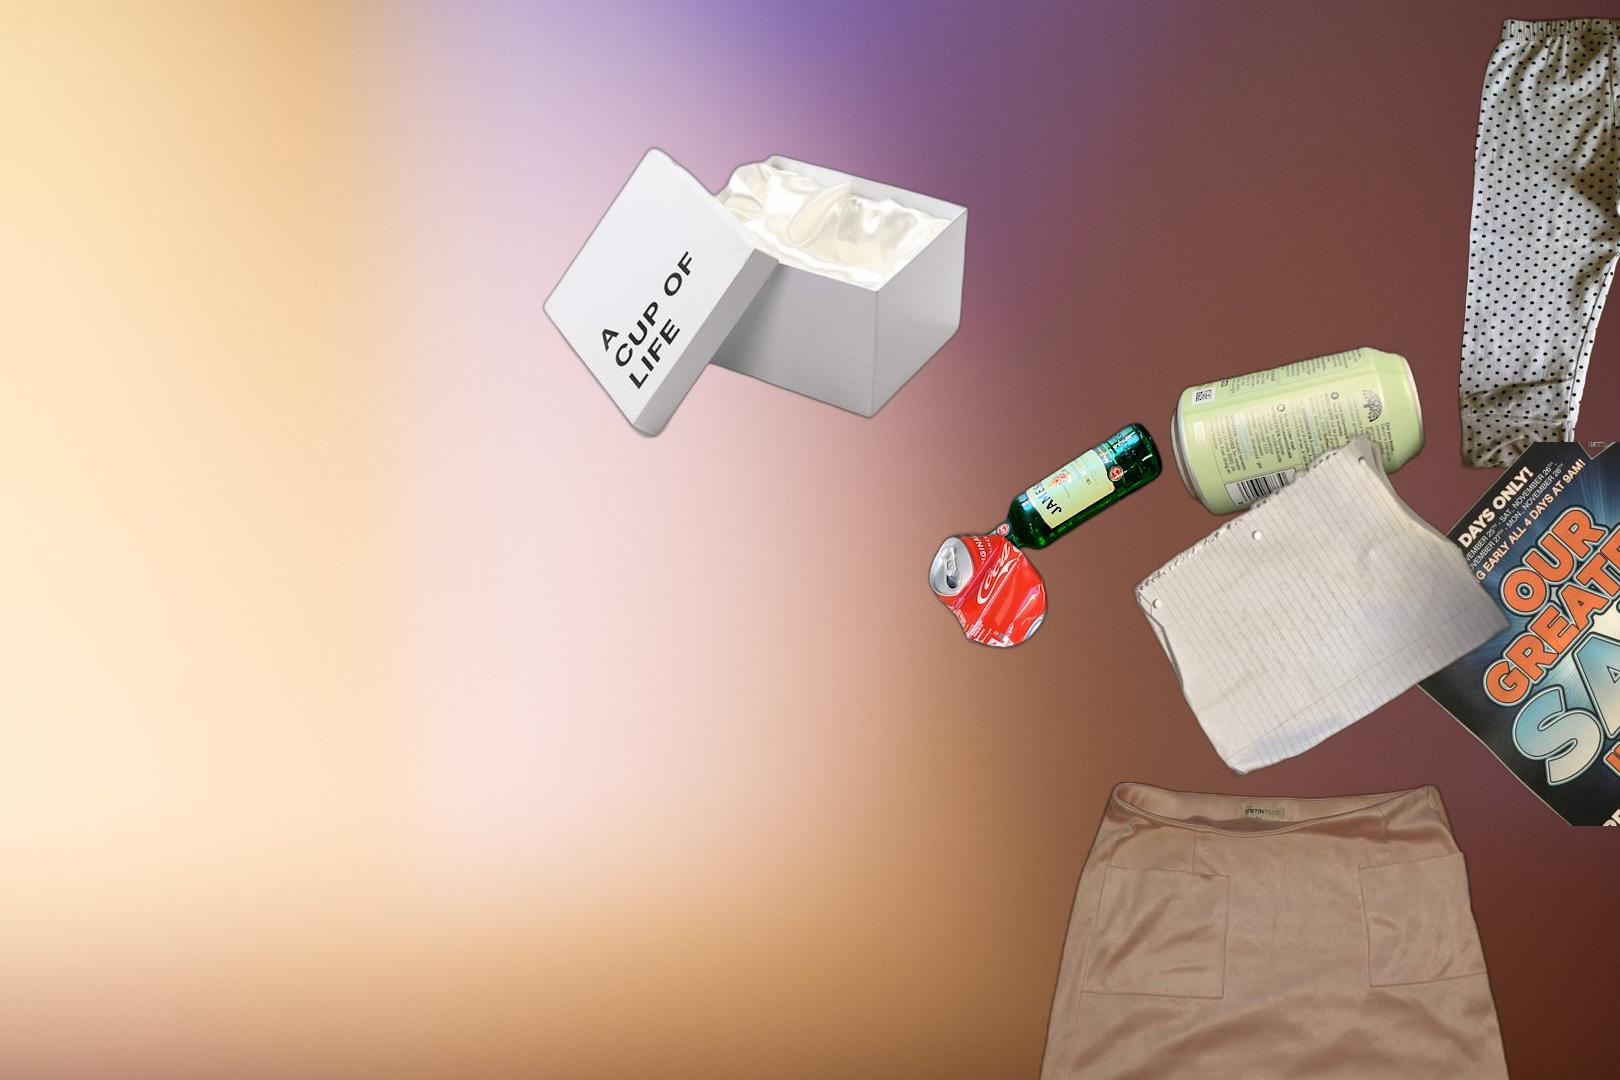clothes: (1022, 777, 1526, 1080), (1455, 5, 1620, 485)
glass: (938, 417, 1167, 591)
metal-cans: (765, 243, 1233, 839), (1167, 340, 1430, 522)
paper: (1128, 429, 1516, 780), (1395, 442, 1620, 826)
trashbox-cardboard: (539, 143, 973, 441)
